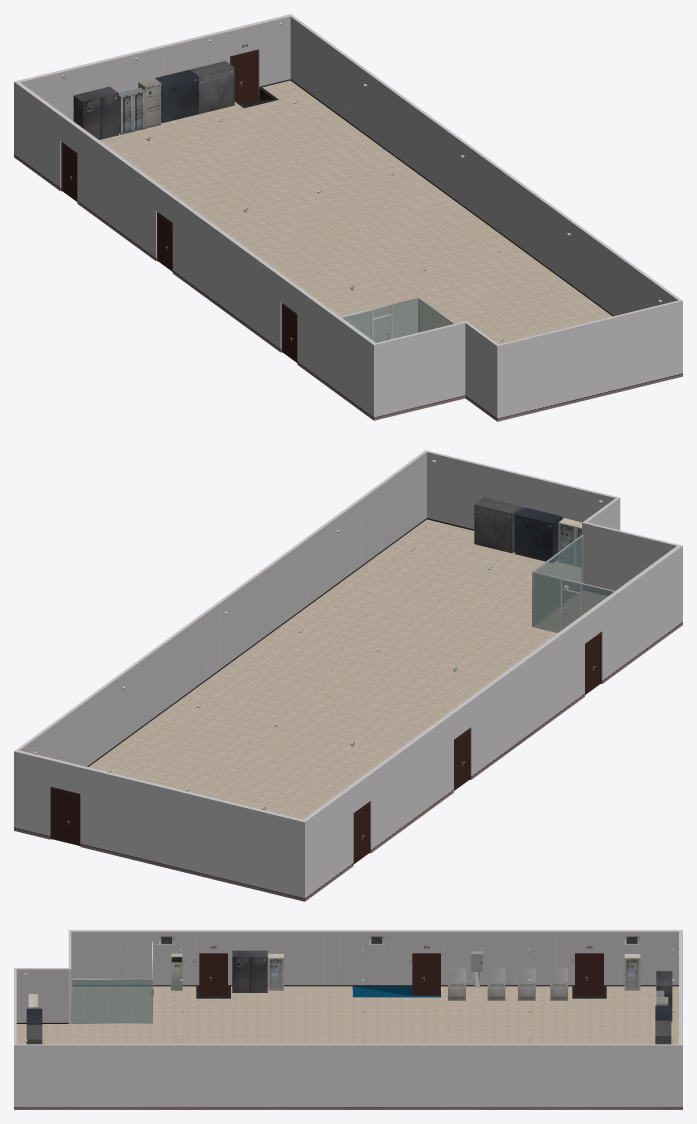
The model's file is jifang.glb.
3 renders of one model, top to bottom at view 1: azimuth 30°, elevation 25°; view 2: azimuth 150°, elevation 25°; view 3: azimuth 270°, elevation 25°, orthographic. The views are drawn at different scales.
Parts seen in each view (by area): view 1: SM_墙体001, SM_地板001, SM_玻璃隔断, SM_风冷型机房专用空调03_002, SM_风冷型机房专用空调02_001, SM_风冷型机房专用空调01_001, SM_应急电源EPS, SM_F1_单门_008, SM_UPS分配柜02; view 2: SM_墙体001, SM_地板001, SM_玻璃隔断, SM_风冷型机房专用空调02_002, SM_风冷型机房专用空调01_002, SM_动力配电柜002, SM_F1_单门_007, SM_F1_单门_008; view 3: SM_墙体001, SM_地板001, SM_玻璃隔断, SM_风冷型机房专用空调03_001, SM_动力配电柜, SM_电池组柜002, SM_电池组柜001, SM_电池组柜004, SM_动力配电柜001, SM_电池组柜003, SM_F1_单门_001, SM_F1_单门_002 (+11 smaller).
Part boxes in pixels (bbox=[...]): SM_墙体001: bbox=[14, 14, 682, 421]; SM_地板001: bbox=[99, 80, 612, 344]; SM_玻璃隔断: bbox=[341, 297, 454, 340]; SM_风冷型机房专用空调03_002: bbox=[73, 86, 118, 139]; SM_风冷型机房专用空调02_001: bbox=[155, 70, 198, 123]; SM_风冷型机房专用空调01_001: bbox=[189, 61, 234, 114]; SM_应急电源EPS: bbox=[138, 78, 161, 128]; SM_F1_单门_008: bbox=[243, 53, 257, 102]; SM_UPS分配柜02: bbox=[119, 90, 133, 134]; SM_墙体001: bbox=[14, 450, 682, 901]; SM_地板001: bbox=[88, 519, 607, 819]; SM_玻璃隔断: bbox=[532, 535, 614, 632]; SM_风冷型机房专用空调02_002: bbox=[514, 507, 562, 562]; SM_风冷型机房专用空调01_002: bbox=[474, 497, 521, 553]; SM_动力配电柜002: bbox=[558, 518, 580, 565]; SM_F1_单门_007: bbox=[66, 794, 79, 845]; SM_F1_单门_008: bbox=[52, 791, 65, 842]; SM_墙体001: bbox=[14, 930, 682, 1109]; SM_地板001: bbox=[16, 986, 678, 1044]; SM_玻璃隔断: bbox=[71, 941, 152, 1023]; SM_风冷型机房专用空调03_001: bbox=[232, 950, 267, 992]; SM_动力配电柜: bbox=[624, 954, 640, 990]; SM_电池组柜002: bbox=[487, 968, 505, 1000]; SM_电池组柜001: bbox=[448, 968, 465, 1000]; SM_电池组柜004: bbox=[550, 968, 567, 1000]; SM_动力配电柜001: bbox=[268, 954, 283, 990]; SM_电池组柜003: bbox=[518, 968, 535, 1000]; SM_F1_单门_001: bbox=[576, 956, 589, 995]; SM_F1_单门_002: bbox=[589, 956, 602, 995].
Bounding box in the file's own units: 13.8 × 3.6 × 33.81.
Materials: 17 (16 with a texture image).
